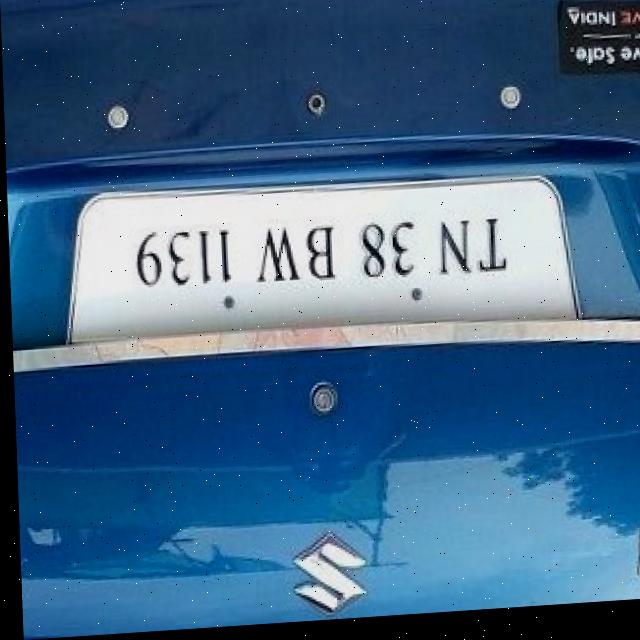plate: (59, 172, 580, 360)
